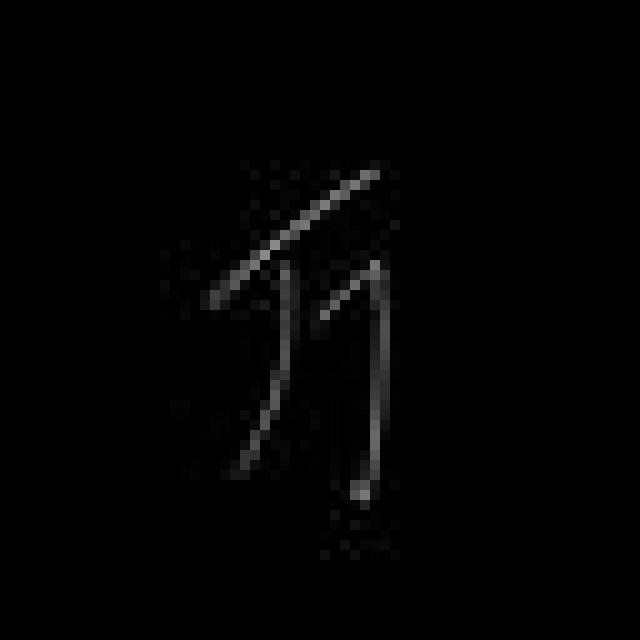10000 -a ten thousand-: (192, 143, 411, 522)
